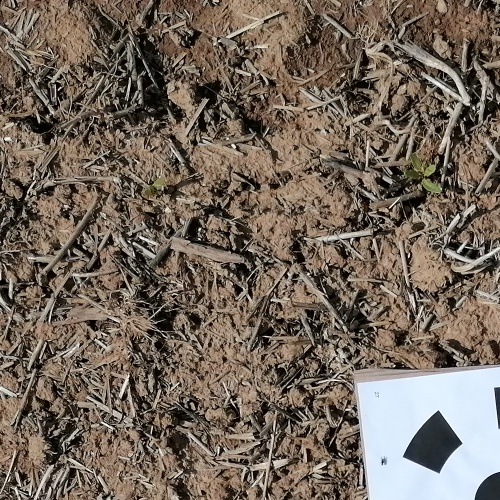beet: (407, 151, 442, 196)
